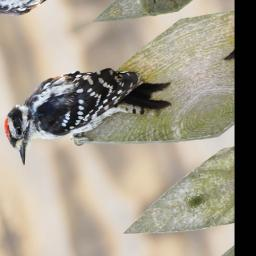Woodpecker: (0, 30, 177, 173)
